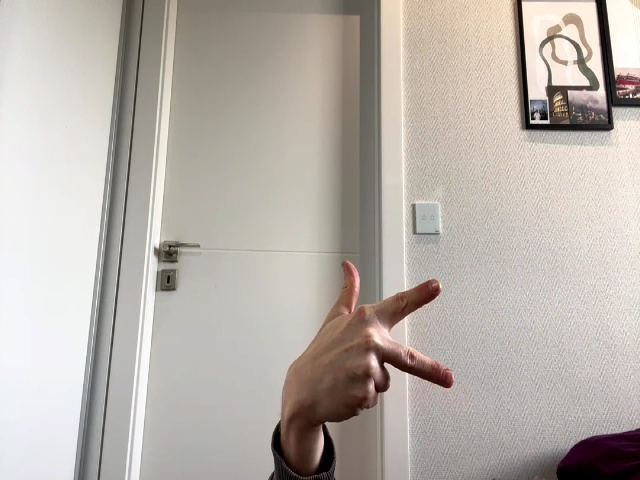K: (297, 260, 453, 429)
